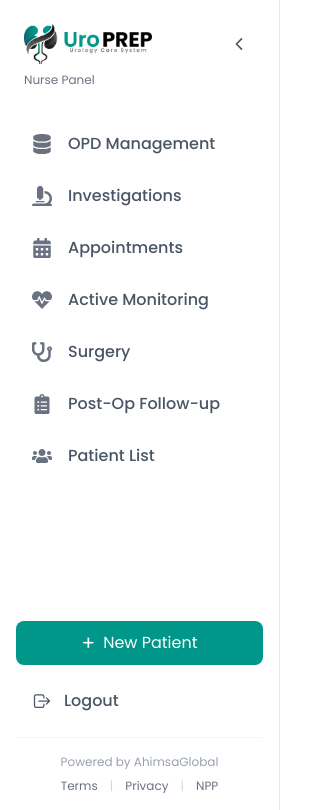
Test: NurseSidebar › handles collapse toggle
Find collapse button (it has aria-label "Collapse sidebar" initially)
Click the button named "Collapse sidebar" at [239, 44], box [223, 28, 255, 60]
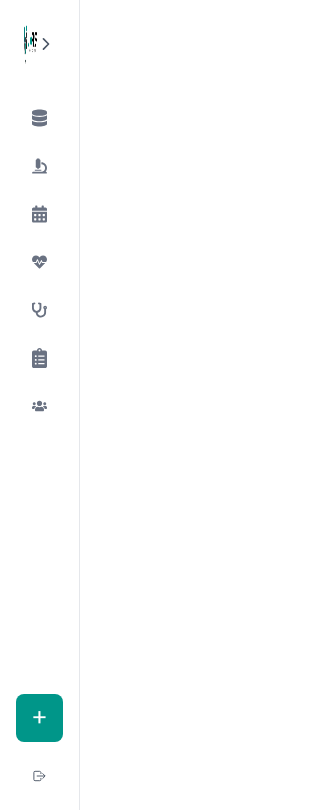
Expected: the button named "Expand sidebar" is shown, [37, 28, 55, 60]
